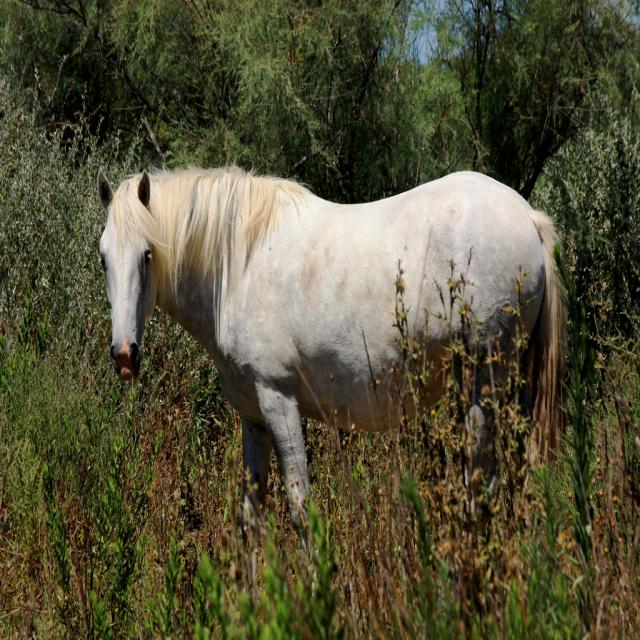Horse: (99, 164, 568, 554)
